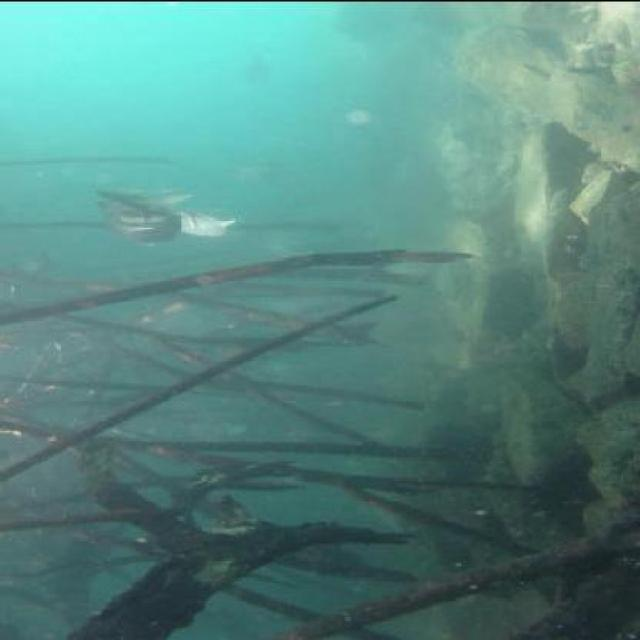Caranx_sexfasciatus_juvenile: (91, 177, 191, 243), (170, 204, 242, 238)
